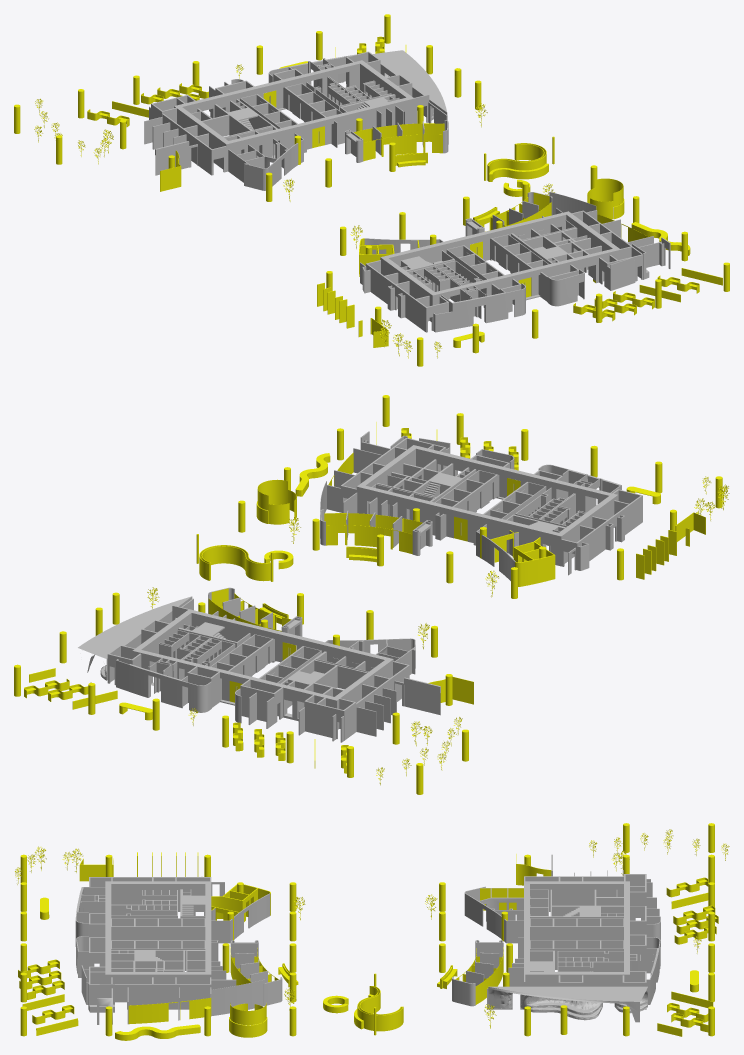
The model's file is sm_hana_building_5f_in.glb.
3 views of the same model, one above another, from view 1: azimuth 30°, elevation 25°; view 2: azimuth 150°, elevation 25°; view 3: azimuth 270°, elevation 25° (orthographic). The views are drawn at different scales.
Visible parts, largest first — view 1: sm_hana_building_5f_in; view 2: sm_hana_building_5f_in; view 3: sm_hana_building_5f_in.
Part boxes in pixels (x1=…): sm_hana_building_5f_in: x1=14, y1=14, x2=729, y2=366; sm_hana_building_5f_in: x1=14, y1=395, x2=729, y2=794; sm_hana_building_5f_in: x1=15, y1=823, x2=729, y2=1040.
Size of the model in its own units: 60.48 by 4.61 by 95.77.
Materials: 8 (6 with a texture image).
